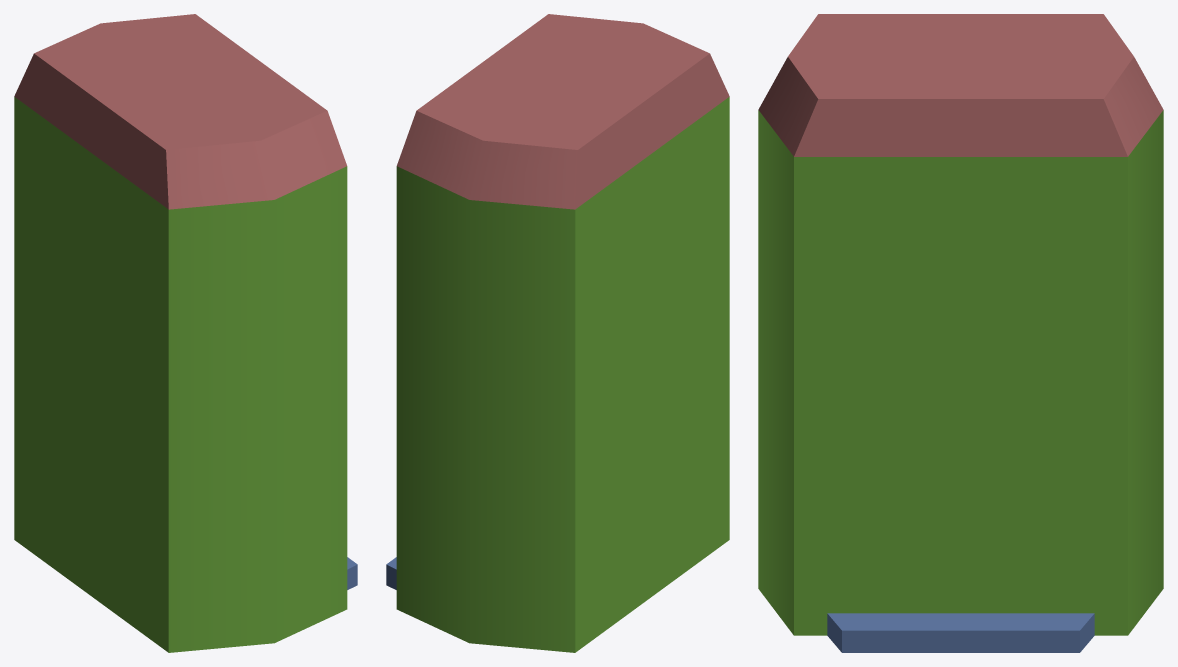
Rendered from Mülleimer_low.fbx.
3 views of the same model, side by side, from view 1: azimuth 30°, elevation 25°; view 2: azimuth 150°, elevation 25°; view 3: azimuth 270°, elevation 25° (orthographic). The views are drawn at different scales.
Visible parts, largest first — view 1: Mesh; view 2: Mesh; view 3: Mesh.
Boxes of the visible parts, x1,y1,x2,y2 form: Mesh: (14,14,357,652); Mesh: (386,14,729,652); Mesh: (758,14,1163,652).
Size of the model in its own units: 0.2366 by 0.5274 by 0.364.
